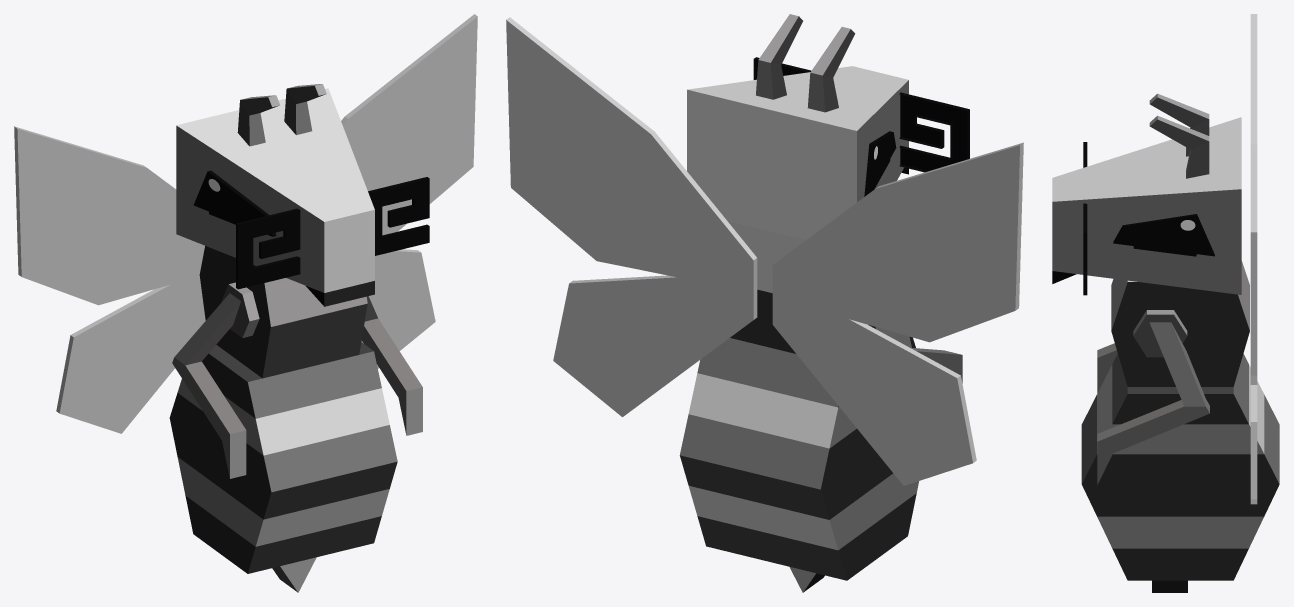
3 renders of one model, left to right at view 1: azimuth 30°, elevation 25°; view 2: azimuth 150°, elevation 25°; view 3: azimuth 270°, elevation 25°, orthographic. The views are drawn at different scales.
Parts seen in each view (by area): view 1: Ch_208, Ch_208_Wing_R, Ch_208_Head, Ch_208_Wing_L, Ch_208_Chest, Ch_208_Arm_L, Ch_208_Eye_03_L, Ch_208_Eye_03_R, Ch_208_Arm_R, Ch_208_Eye_01; view 2: Ch_208_Wing_L, Ch_208_Wing_R, Ch_208, Ch_208_Head, Ch_208_Eye_03_L, Ch_208_Chest, Ch_208_Eye_01, Ch_208_Arm_L; view 3: Ch_208, Ch_208_Head, Ch_208_Chest, Ch_208_Arm_R, Ch_208_Eye_01, Ch_208_Wing_L, Ch_208_Wing_R, Ch_208_Arm_L, Ch_208_Eye_03_R.
Part boxes in pixels (box(x1,y1,x2,y2)): Ch_208: box(169, 342, 397, 592); Ch_208_Wing_R: box(14, 126, 205, 433); Ch_208_Head: box(176, 84, 374, 306); Ch_208_Wing_L: box(341, 14, 477, 368); Ch_208_Chest: box(199, 246, 367, 378); Ch_208_Arm_L: box(172, 293, 246, 478); Ch_208_Eye_03_L: box(236, 208, 300, 289); Ch_208_Eye_03_R: box(368, 177, 429, 255); Ch_208_Arm_R: box(361, 296, 422, 435); Ch_208_Eye_01: box(193, 170, 276, 236); Ch_208_Wing_L: box(506, 17, 757, 416); Ch_208_Wing_R: box(772, 142, 1023, 485); Ch_208: box(679, 337, 918, 592); Ch_208_Head: box(687, 14, 908, 239); Ch_208_Eye_03_L: box(899, 92, 969, 172); Ch_208_Chest: box(728, 221, 875, 353); Ch_208_Eye_01: box(864, 131, 896, 196); Ch_208_Arm_L: box(875, 327, 962, 383); Ch_208: box(1081, 353, 1279, 592); Ch_208_Head: box(1052, 93, 1241, 294); Ch_208_Chest: box(1111, 261, 1249, 386); Ch_208_Arm_R: box(1097, 322, 1209, 484); Ch_208_Eye_01: box(1113, 214, 1214, 256); Ch_208_Wing_L: box(1250, 232, 1257, 504); Ch_208_Wing_R: box(1250, 14, 1257, 232); Ch_208_Arm_L: box(1097, 343, 1117, 393); Ch_208_Eye_03_R: box(1083, 203, 1087, 295).
Size of the model in its own units: 9.61 by 9.98 by 4.23.
